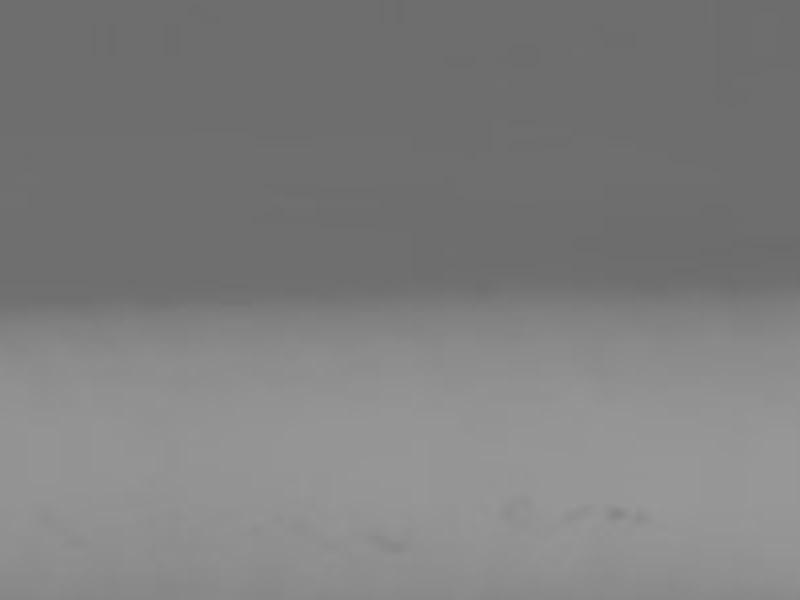defect: (504, 495, 538, 521), (373, 533, 403, 552), (568, 502, 595, 521), (630, 503, 649, 525), (604, 503, 627, 518)
